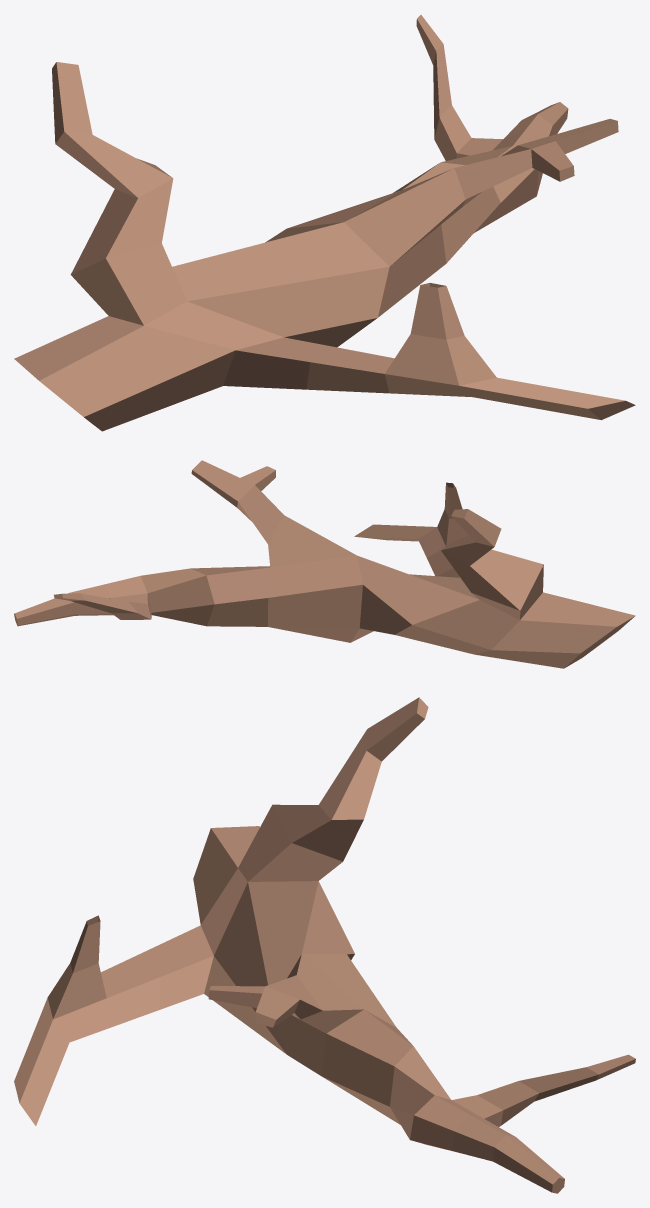
File: tree_3.fbx
3 views of the same model, one above another, from view 1: azimuth 30°, elevation 25°; view 2: azimuth 150°, elevation 25°; view 3: azimuth 270°, elevation 25° (orthographic). The views are drawn at different scales.
Visible parts, largest first — view 1: Cylinder; view 2: Cylinder; view 3: Cylinder.
Boxes of the visible parts, x1,y1,x2,y2 form: Cylinder: (14, 15, 635, 431); Cylinder: (14, 460, 635, 668); Cylinder: (14, 697, 635, 1193).
Bounding box in the file's own units: 6.05 × 2.29 × 4.93.
